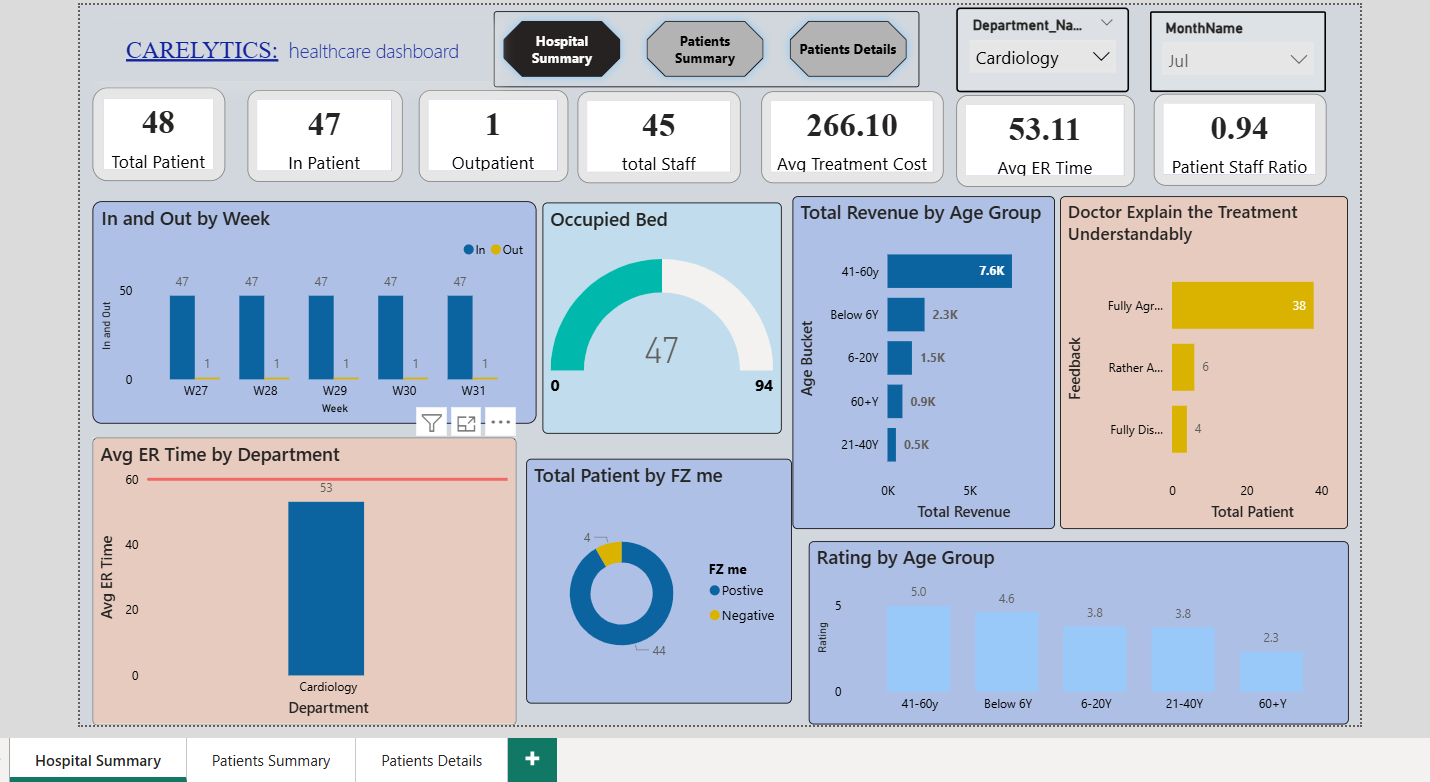

What the dashboard file says about the page in this screenshot:
{"tool":"powerbi","page":{"name":"Hospital Summary ","canvas":[1280,720],"ordinal":0},"visuals":[{"type":"cardVisual","fields":{"Data":["Measure.Total Patient"]},"box":[12.5,82.5,132.5,93.8],"z":1000},{"type":"slicer","fields":{"Values":["Department.Department_Name"]},"box":[876.1,3,173.1,85.1],"z":3000},{"type":"slicer","fields":{"Values":["Calendar_date.MonthName"]},"box":[1070.1,6,176.1,80.6],"z":4000},{"type":"cardVisual","fields":{"Data":["Measure.In Patient"]},"box":[167.3,85,154.9,91.9],"z":5000},{"type":"cardVisual","fields":{"Data":["Measure.Outpatient"]},"box":[338.6,85,149.4,91.9],"z":6000},{"type":"cardVisual","fields":{"Data":["Bed_Detail.total Staff"]},"box":[497.7,86.4,163.2,91.9],"z":7000},{"type":"cardVisual","fields":{"Data":["Measure.Avg Treatment Cost"]},"box":[681.4,86.4,182.3,91.9],"z":8000},{"type":"cardVisual","fields":{"Data":["Measure.Avg ER Time"]},"box":[876.1,90.5,178.2,91.9],"z":9000},{"type":"cardVisual","fields":{"Data":["Bed_Detail.Patient Staff Ratio"]},"box":[1073.5,89.1,172.8,91.9],"z":10000},{"type":"clusteredColumnChart","fields":{"Y":["Calendar_date.In Patient","Calendar_date.Outpatient"],"Category":["Calendar_date.WeekName"]},"box":[12.3,196.1,444.2,222.1],"z":11000},{"type":"gauge","fields":{"Y":["Divide(Measure.Occupied Bed, ScopedEval(Measure.Occupied Bed, []))"]},"box":[462.7,197,238.8,231.3],"z":12000},{"type":"clusteredBarChart","title":"Total Revenue by Age Group","fields":{"Y":["Measure.Total Revenue"],"Category":["Detail data dataset.Age Bucket"]},"box":[711.9,191,262.7,332.8],"z":13000},{"type":"barChart","fields":{"Y":["Measure.Avg ER Time"],"Category":["Department.Department_Name"]},"box":[12.3,431.9,423.7,287.9],"z":14000},{"type":"barChart","title":"Doctor Explain the Treatment Understandably","fields":{"Y":["Measure.Total Patient"],"Category":["Detail data dataset.Feedback"]},"box":[980.6,191,288.1,332.8],"z":15000},{"type":"columnChart","title":"Rating by Age Group","fields":{"Y":["Measure.Rating"],"Category":["Detail data dataset.Age Bucket"]},"box":[728.4,535.8,540.3,183.6],"z":16000},{"type":"donutChart","fields":{"Y":["Measure.Total Patient"],"Category":["Detail data dataset.FZ me"]},"box":[446.3,453.7,265.7,244.8],"z":17000},{"type":"pageNavigator","box":[413.4,6,425.4,76.1],"z":18000},{"type":"textbox","box":[11.9,13.4,401.5,64.2],"z":18500}]}

Visuals, with their boxes on the page's 1280x720 design canvas (x1, y1, x2, y2). These are canvas units, not pixel positions in the 1430x782 screenshot, which may show the page scaled, cropped or inside an application window:
cardVisual - Measure.Total Patient: BBox(12, 82, 145, 176)
slicer - Department.Department_Name: BBox(876, 3, 1049, 88)
slicer - Calendar_date.MonthName: BBox(1070, 6, 1246, 87)
cardVisual - Measure.In Patient: BBox(167, 85, 322, 177)
cardVisual - Measure.Outpatient: BBox(339, 85, 488, 177)
cardVisual - Bed_Detail.total Staff: BBox(498, 86, 661, 178)
cardVisual - Measure.Avg Treatment Cost: BBox(681, 86, 864, 178)
cardVisual - Measure.Avg ER Time: BBox(876, 90, 1054, 182)
cardVisual - Bed_Detail.Patient Staff Ratio: BBox(1074, 89, 1246, 181)
clusteredColumnChart - Calendar_date.In Patient x Calendar_date.Outpatient: BBox(12, 196, 456, 418)
gauge - Divide(Measure.Occupied Bed, ScopedEval(Measure.Occupied Bed, [])): BBox(463, 197, 702, 428)
"Total Revenue by Age Group" clusteredBarChart: BBox(712, 191, 975, 524)
barChart - Measure.Avg ER Time x Department.Department_Name: BBox(12, 432, 436, 720)
"Doctor Explain the Treatment Understandably" barChart: BBox(981, 191, 1269, 524)
"Rating by Age Group" columnChart: BBox(728, 536, 1269, 719)
donutChart - Measure.Total Patient x Detail data dataset.FZ me: BBox(446, 454, 712, 698)
pageNavigator: BBox(413, 6, 839, 82)
textbox: BBox(12, 13, 413, 78)
